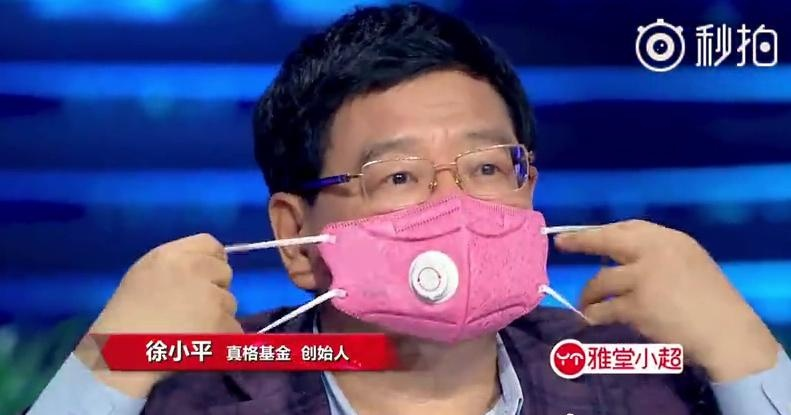Mask: (321, 127, 539, 345)
